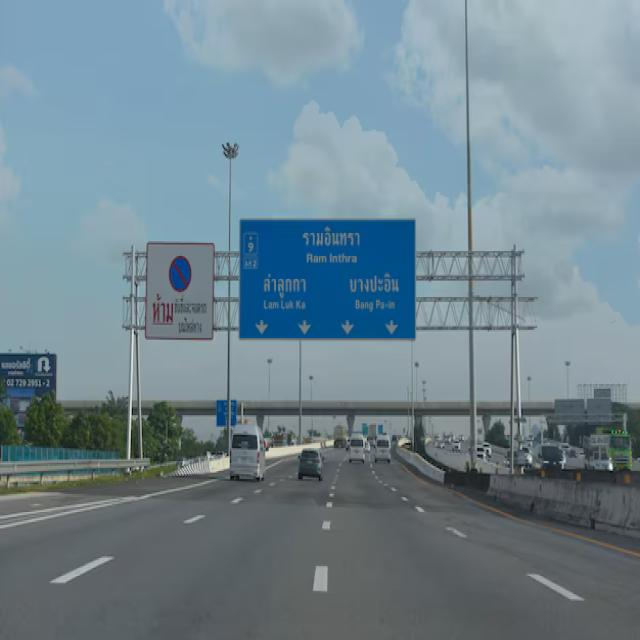Billboard_LHS: (0, 348, 60, 394)
Billboard_overhead: (235, 216, 420, 350), (144, 233, 220, 348)
Roadcorner: (452, 476, 635, 576)
Roadlane: (365, 464, 610, 630), (25, 478, 273, 610), (299, 461, 352, 615)
